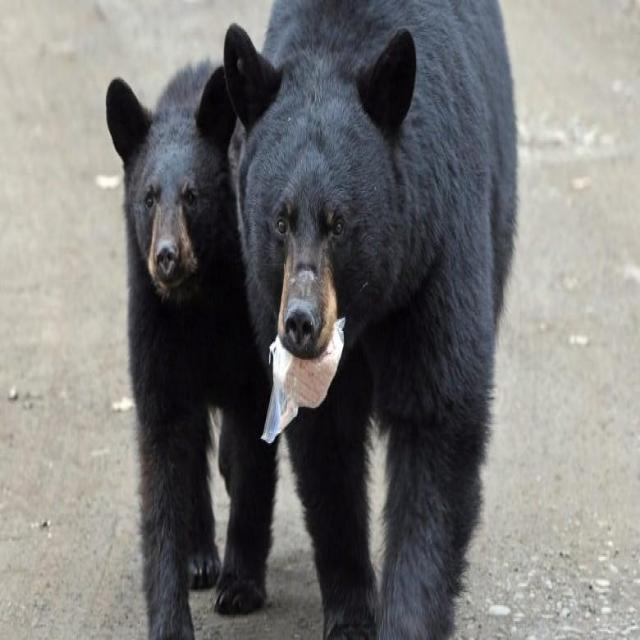Bear: (222, 0, 516, 640), (105, 61, 277, 640)
